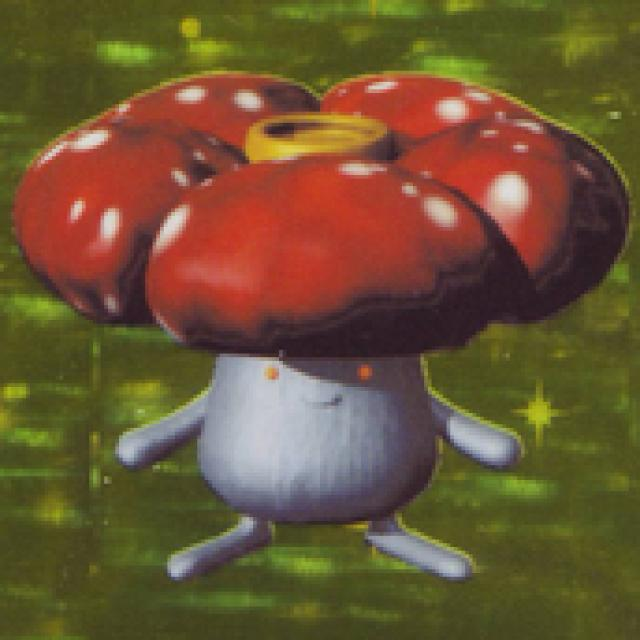Vileplume: (141, 72, 521, 583)
